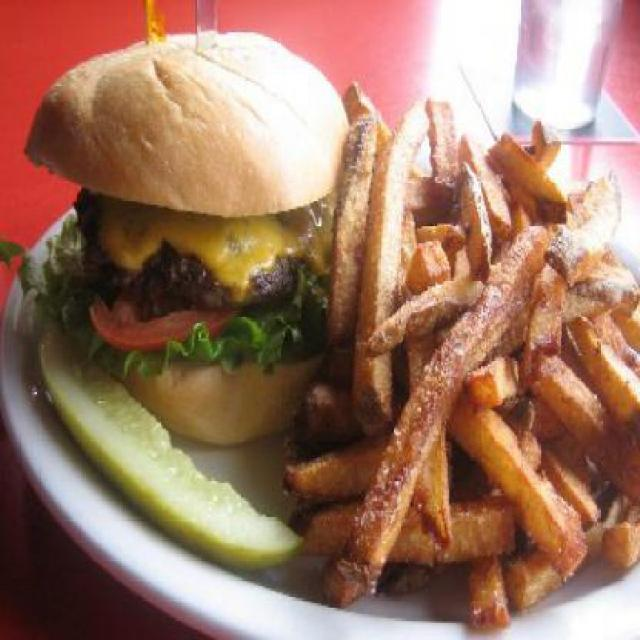hamburger: (25, 19, 332, 438)
sweet potato: (326, 71, 639, 617)
